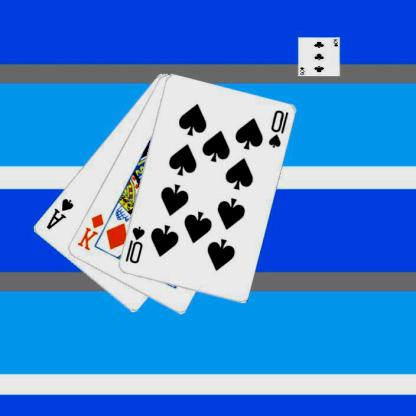10S: (124, 223, 148, 266), (267, 108, 291, 150)
AS: (45, 196, 76, 231)
KD: (76, 211, 106, 252)
